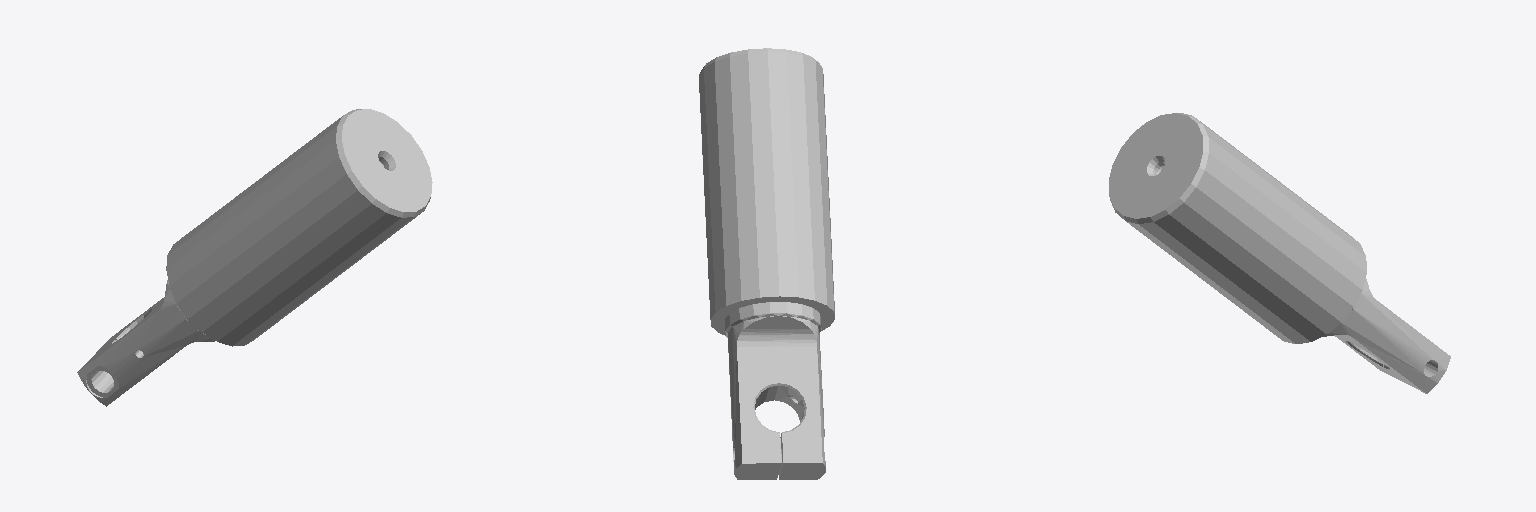
File: ActuatorTopRight.obj
3 renders of one model, left to right at view 1: azimuth 30°, elevation 25°; view 2: azimuth 150°, elevation 25°; view 3: azimuth 270°, elevation 25°, orthographic.
Parts seen in each view (by area): view 1: 1300_derived_Shaft.stp; view 2: 1300_derived_Shaft.stp; view 3: 1300_derived_Shaft.stp.
Part boxes in pixels (bbox=[...]): 1300_derived_Shaft.stp: bbox=[77, 109, 432, 406]; 1300_derived_Shaft.stp: bbox=[699, 48, 834, 479]; 1300_derived_Shaft.stp: bbox=[1109, 113, 1450, 393].
Size of the model in its own units: 0.15 by 0.2 by 0.1908.